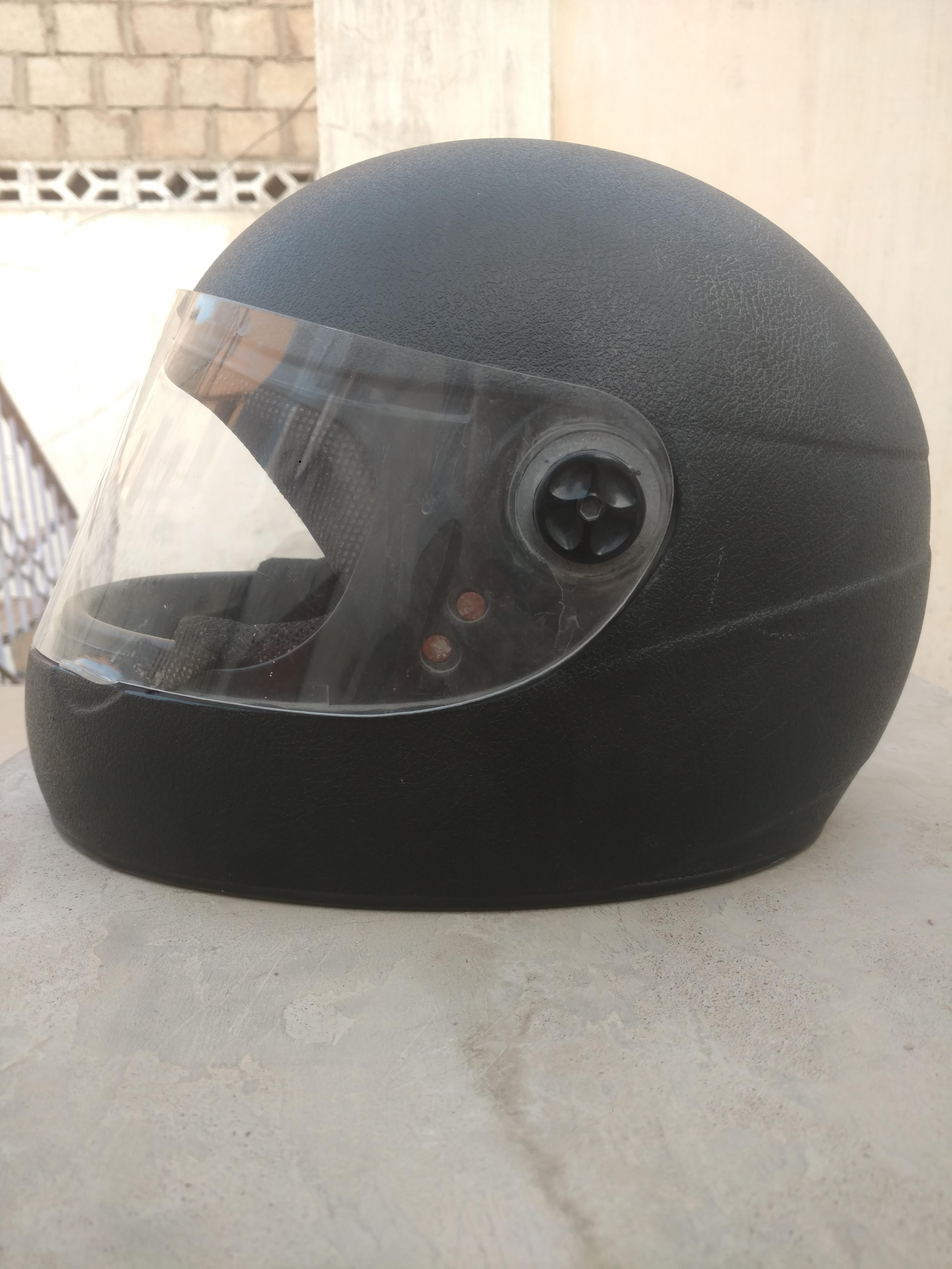helmet: (10, 133, 952, 1057)
